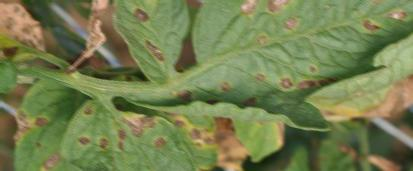Tomato Septoria leaf spot: (151, 0, 413, 136), (63, 95, 221, 171), (105, 0, 194, 86)
